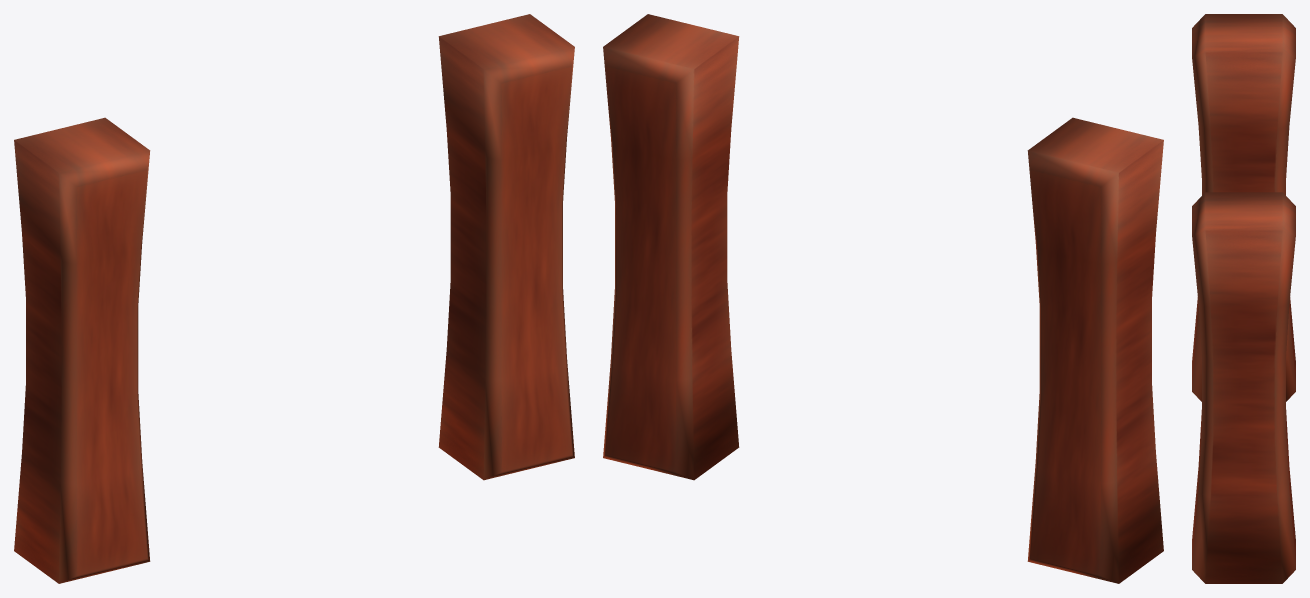
File: door_destroy_frame.fbx
3 views of the same model, side by side, from view 1: azimuth 30°, elevation 25°; view 2: azimuth 150°, elevation 25°; view 3: azimuth 270°, elevation 25° (orthographic). The views are drawn at different scales.
Parts seen in each view (by area): view 1: wall_door_lvl1_columnes; view 2: wall_door_lvl1_columnes; view 3: wall_door_lvl1_columnes.
Part boxes in pixels (x1,y1,x2,y2): wall_door_lvl1_columnes: (14, 14, 574, 583); wall_door_lvl1_columnes: (603, 14, 1163, 583); wall_door_lvl1_columnes: (1192, 14, 1295, 583).
Bounding box in the file's own units: 1098 × 836 × 223.
